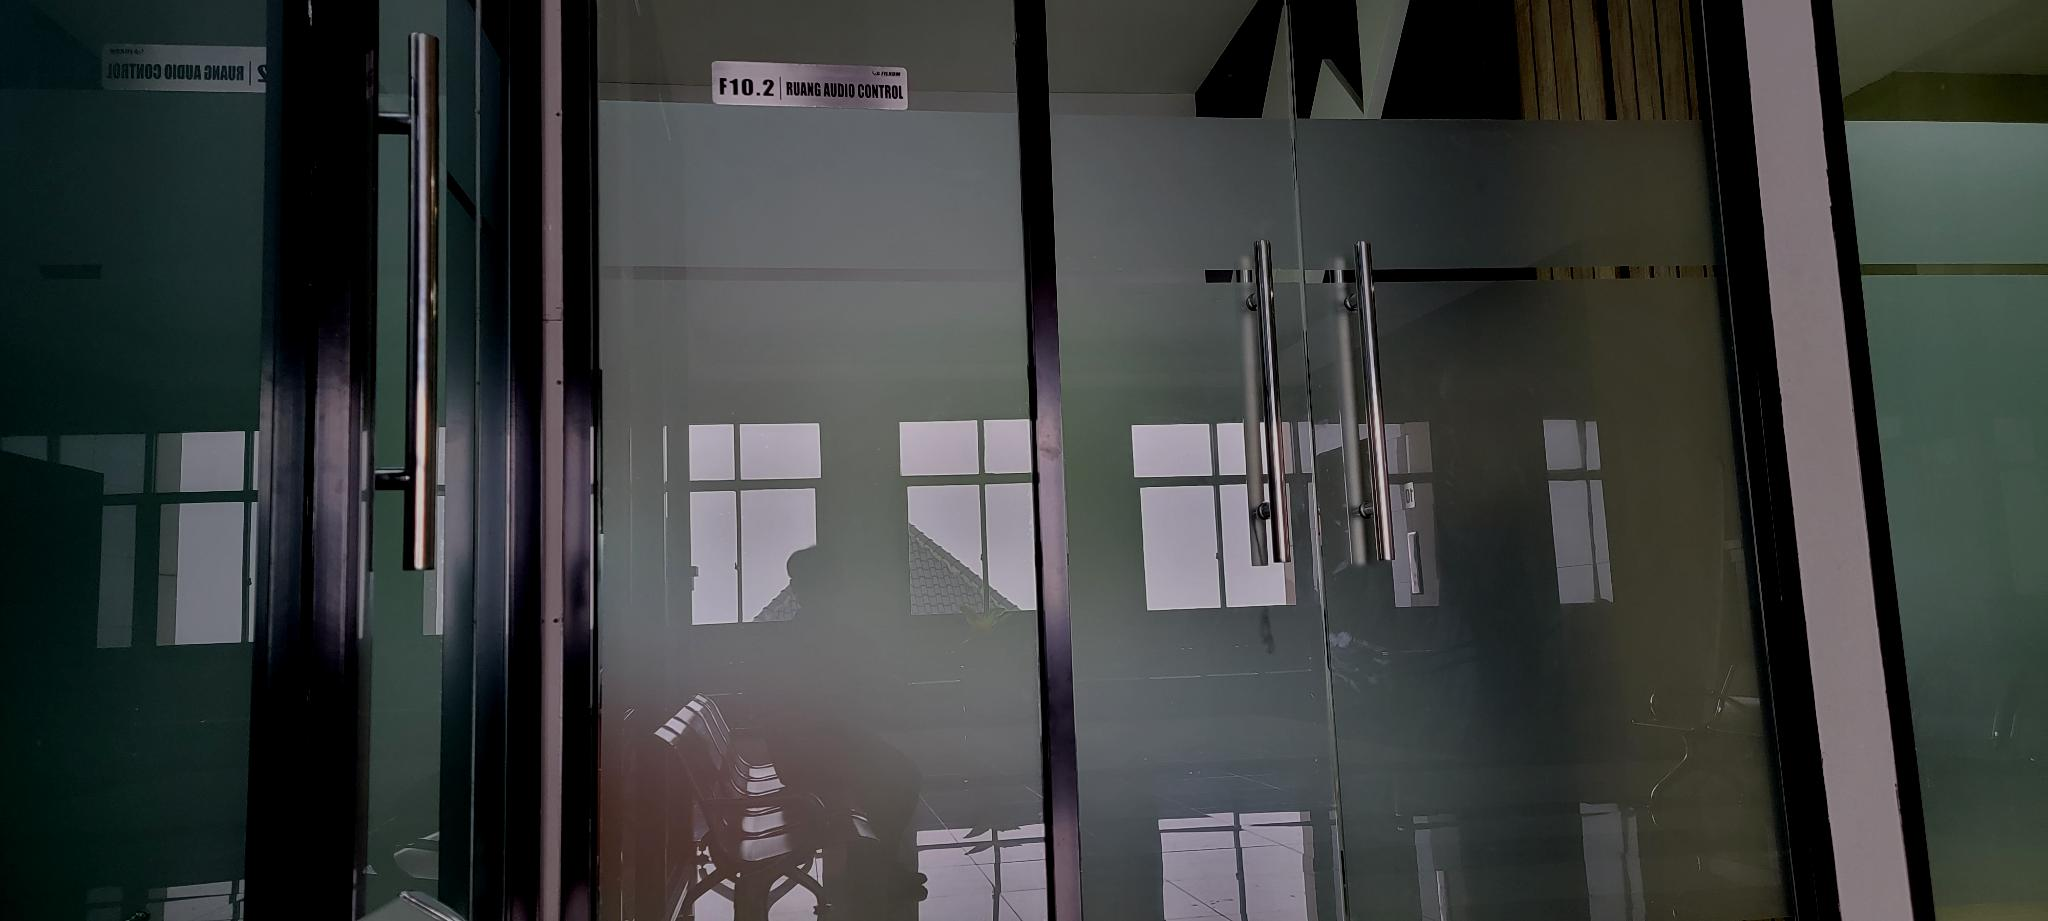plate: (709, 57, 914, 111)
